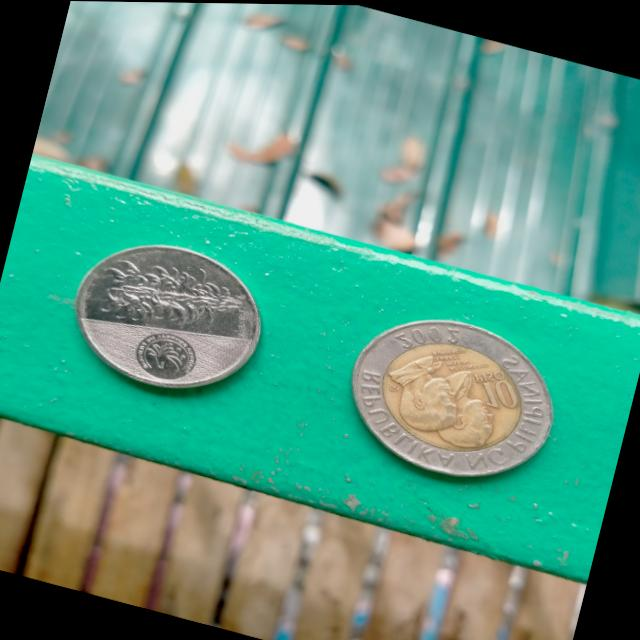10_Old_Front: (468, 360, 534, 417)
5_New_Back: (95, 246, 251, 351)
